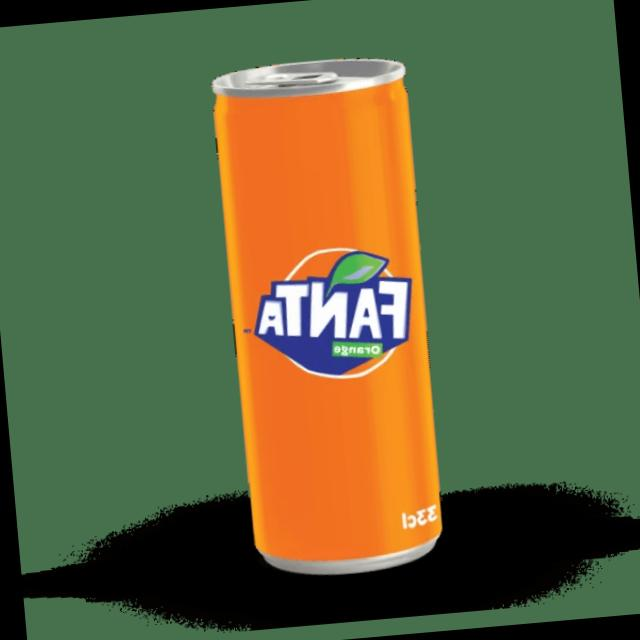fanta: (210, 58, 453, 580)
